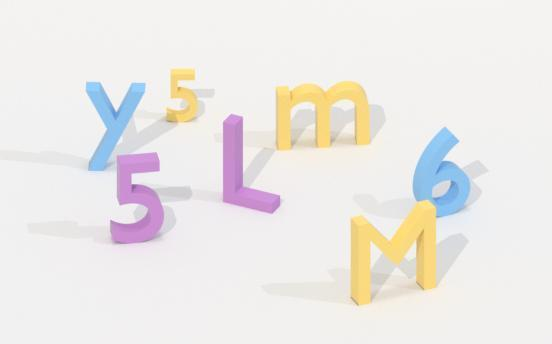chu_khoi: (350, 200, 436, 304), (276, 81, 370, 149), (223, 114, 279, 212), (86, 82, 144, 170)
so_khoi: (413, 127, 470, 216), (110, 153, 163, 243), (166, 68, 197, 121)
